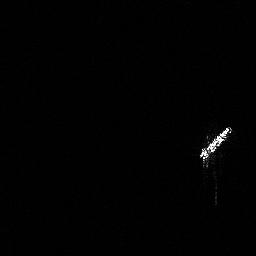ship: (195, 123, 235, 168)
